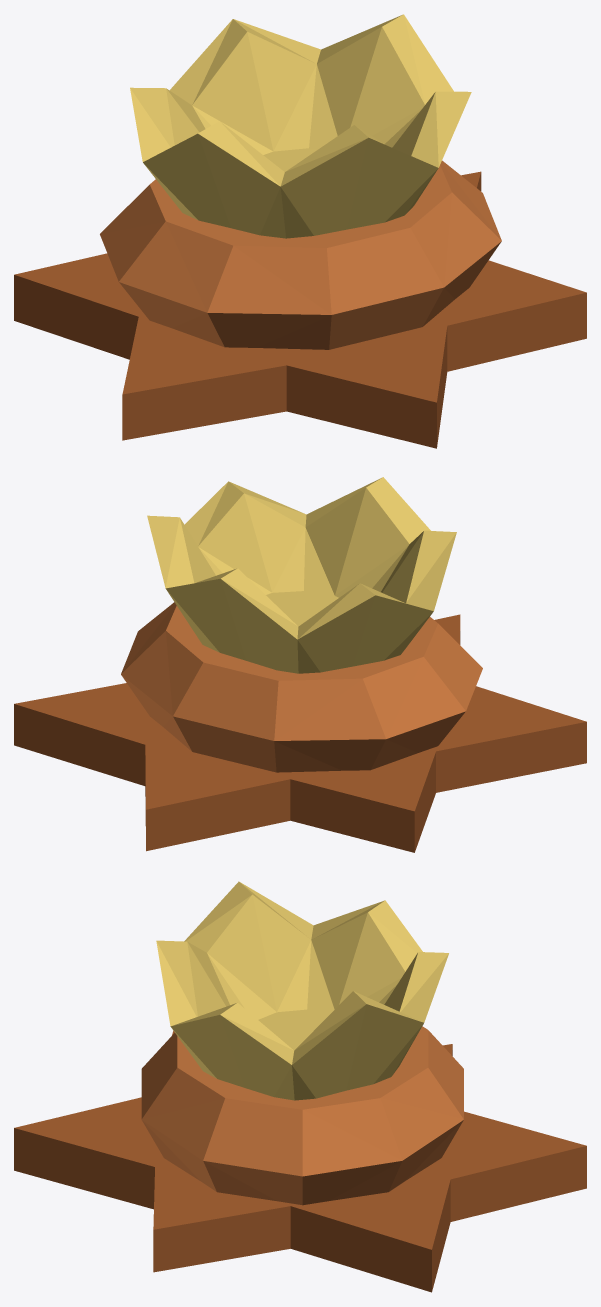
Rendered from gaumaker_b.obj.
3 views of the same model, one above another, from view 1: azimuth 30°, elevation 25°; view 2: azimuth 150°, elevation 25°; view 3: azimuth 270°, elevation 25° (orthographic). The views are drawn at different scales.
Parts seen in each view (by area): view 1: gaumaker_b; view 2: gaumaker_b; view 3: gaumaker_b.
Boxes of the visible parts, x1,y1,x2,y2 form: gaumaker_b: (14, 14, 586, 448); gaumaker_b: (14, 477, 586, 852); gaumaker_b: (14, 881, 586, 1292).
Size of the model in its own units: 0.8468 by 0.4176 by 0.9125.
